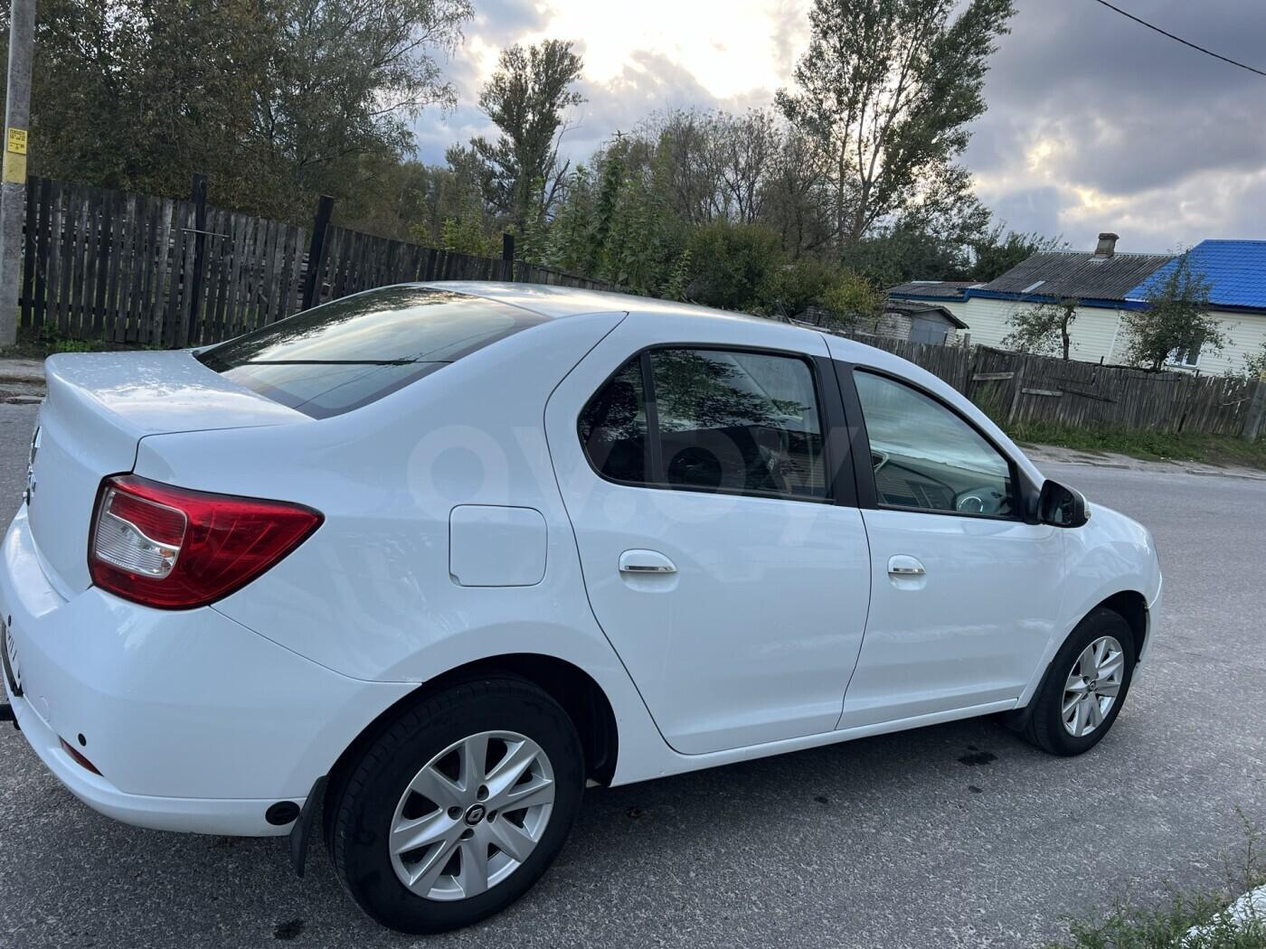Logan_2013-2018: (0, 275, 1164, 923)
